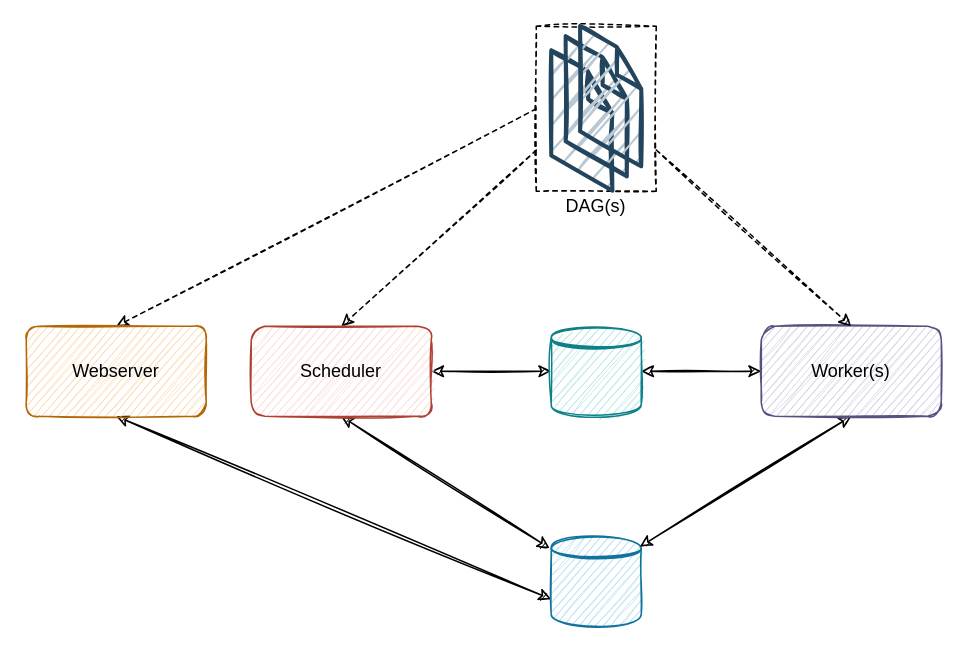
Image size: 968x654. Some labels were removed from this diagram. Each missing label, with the centre of its shape:
Postgres: point (595, 580)
Redis: point (595, 370)
